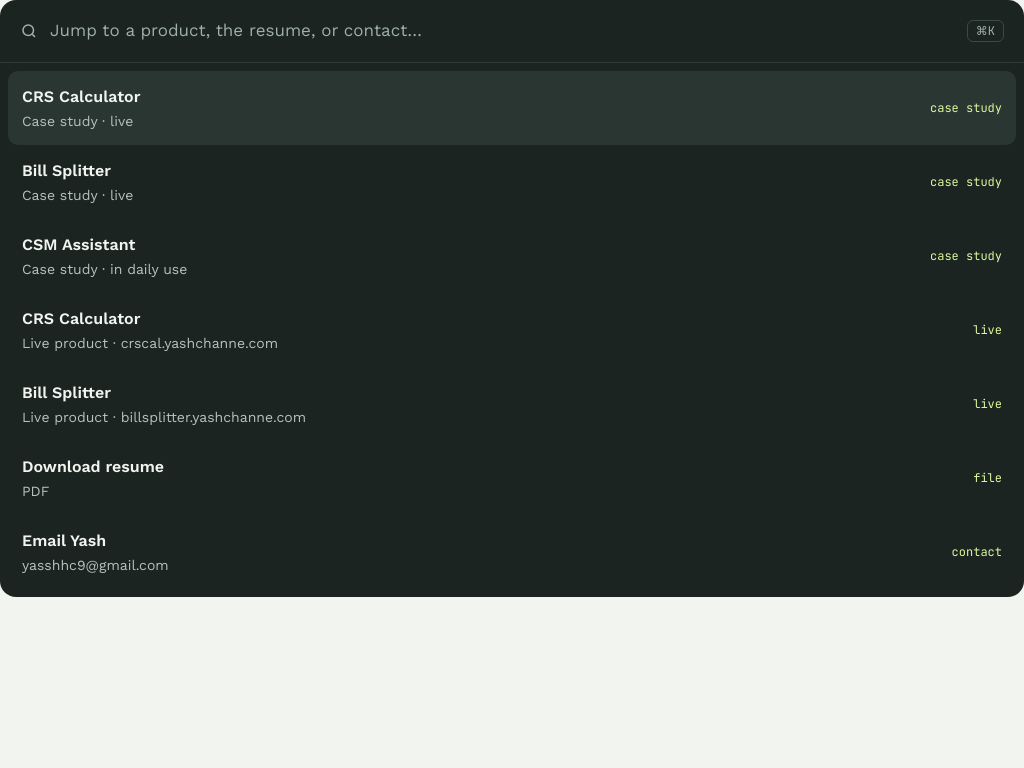
Test: JumpMenu › reports whether the list is showing through aria-expanded
This screenshot has width=1024, height=768.
Type "zzz" into the dropdown labelled "Jump to" at (502, 31), box [50,18,955,44]
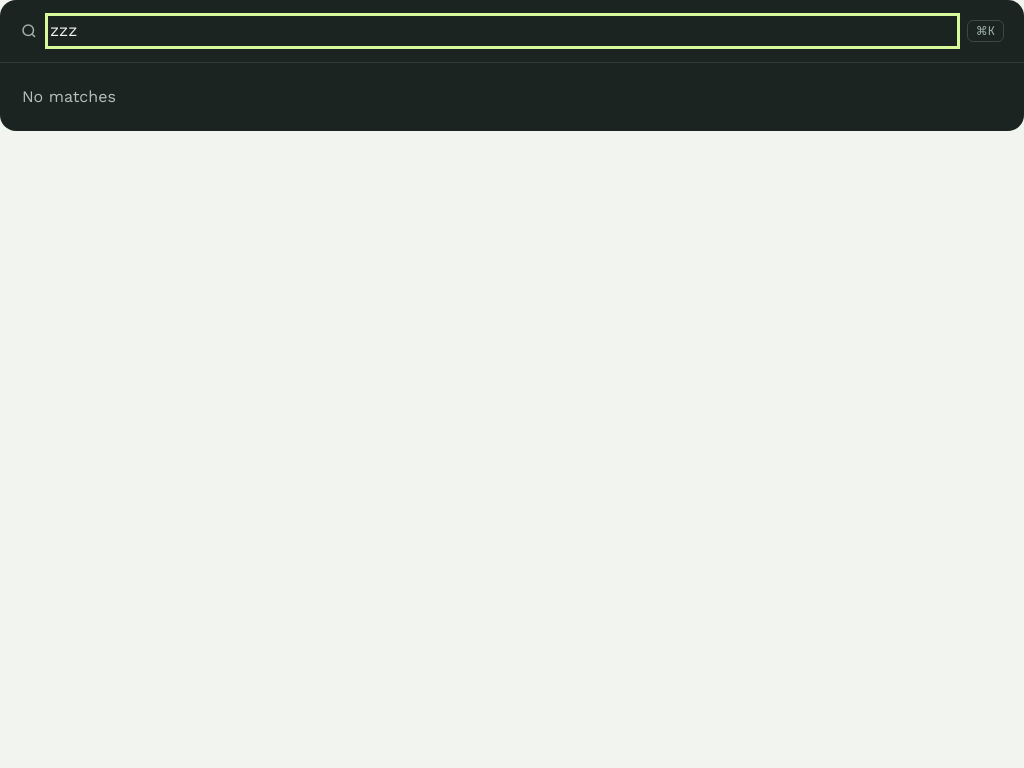
Check: the dropdown named "Jump to" is collapsed, box [50,18,955,44]
Press Escape
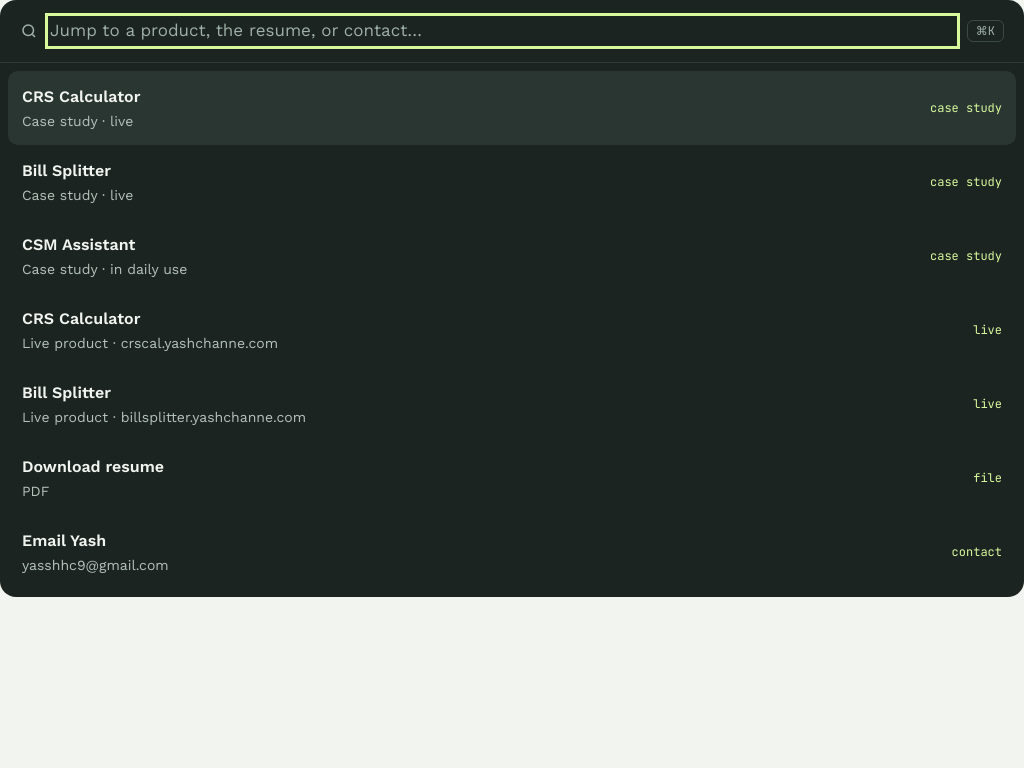
Check: the dropdown labelled "Jump to" is expanded, box [50,18,955,44]
